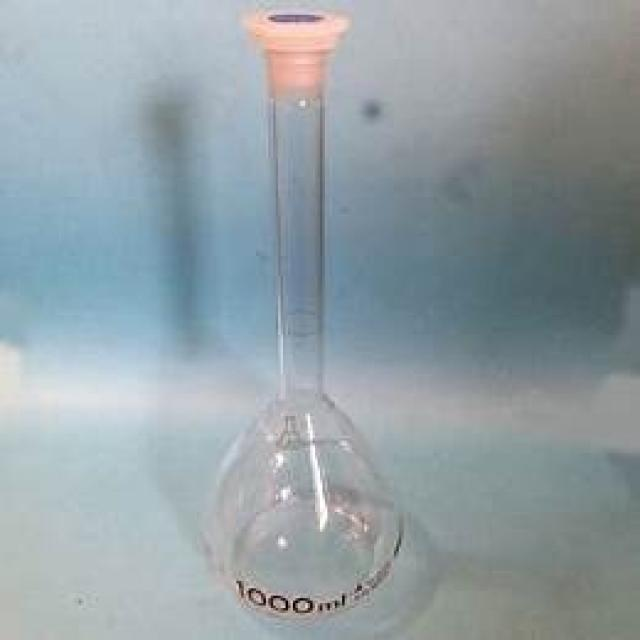Volumetric flask: (199, 11, 409, 620)
